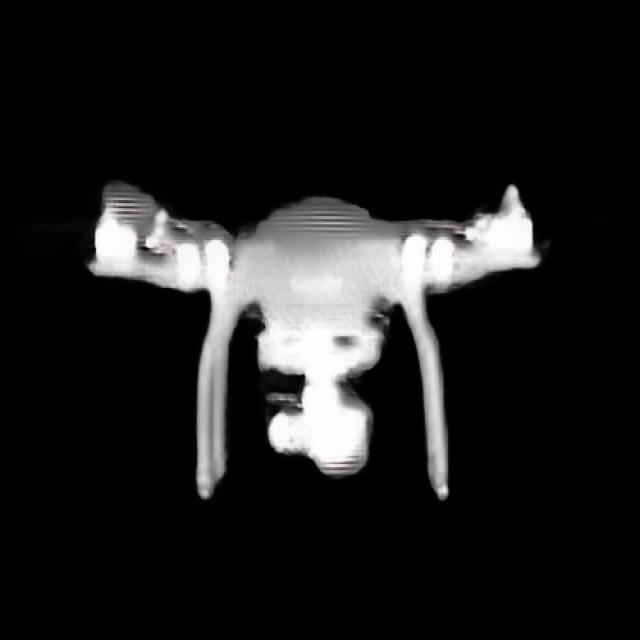drone: (68, 174, 560, 510)
